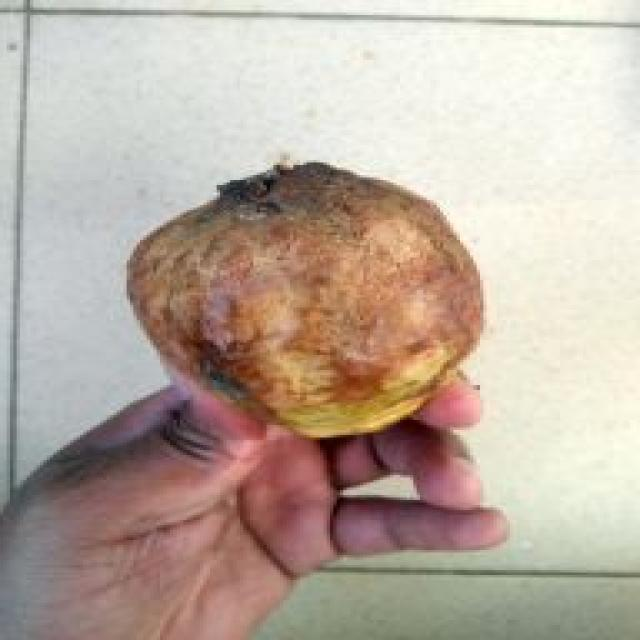Bad_Guava: (128, 162, 483, 437)
